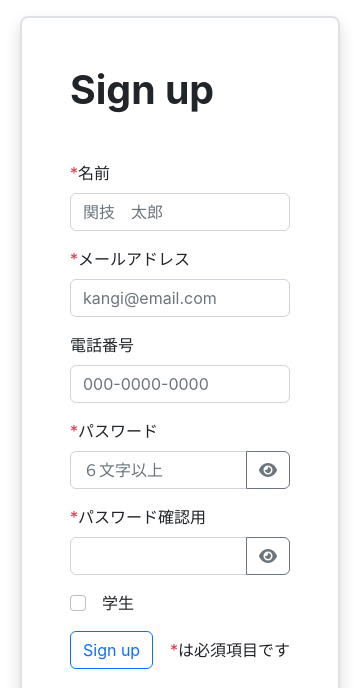
Test case: SignupForm › when send button is pushed while name and password fields are empty, error messages are showed
Click the button "Sign up" at (112, 650), box left=70, top=631, right=153, bottom=669
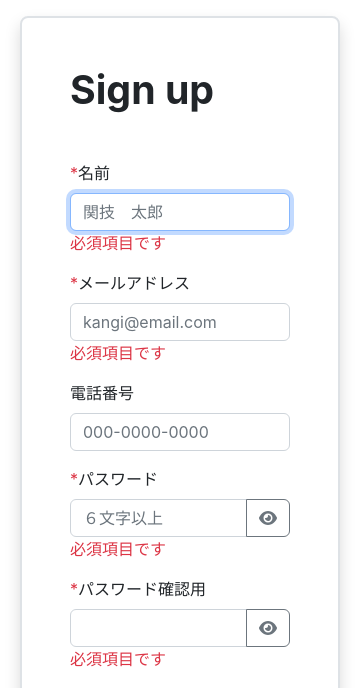
Check: the text "必須項目です" is shown 4 times, box left=70, top=233, right=166, bottom=253; left=70, top=343, right=166, bottom=363; left=70, top=539, right=166, bottom=559; left=70, top=649, right=166, bottom=669
